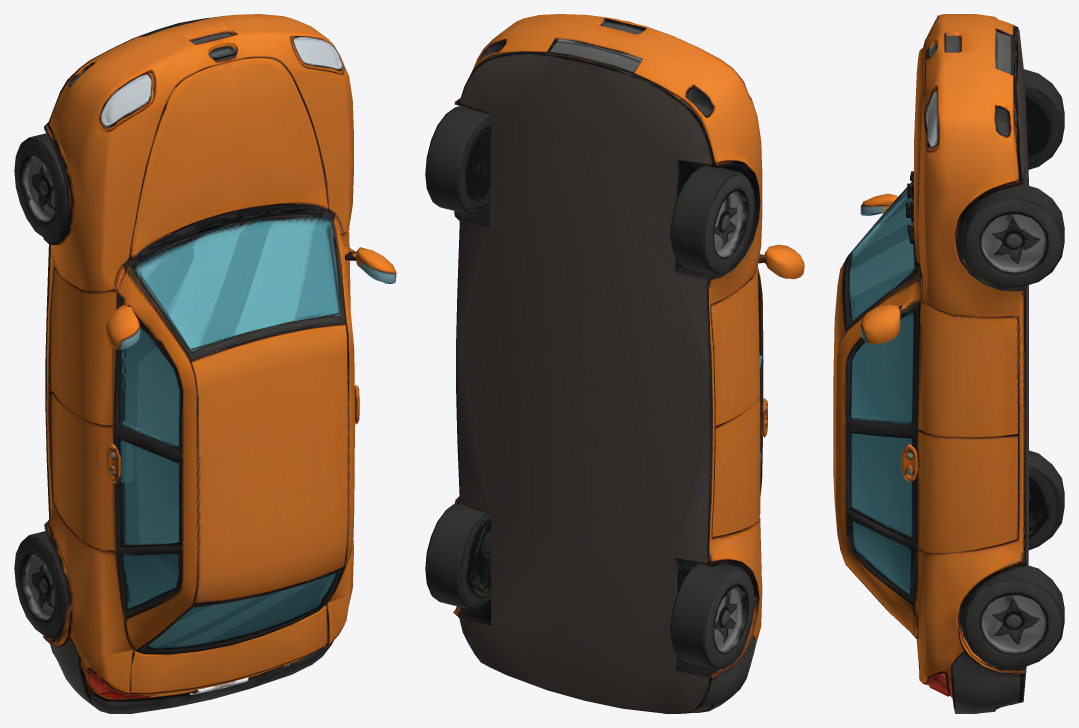
The model's file is selected.fbx.
3 renders of one model, left to right at view 1: azimuth 30°, elevation 25°; view 2: azimuth 150°, elevation 25°; view 3: azimuth 270°, elevation 25°, orthographic. The views are drawn at different scales.
Parts seen in each view (by area): view 1: tripo_node_b208797e-71d7-49c3-8727-cdec91dc54c1; view 2: tripo_node_b208797e-71d7-49c3-8727-cdec91dc54c1; view 3: tripo_node_b208797e-71d7-49c3-8727-cdec91dc54c1.
Boxes of the visible parts, x1,y1,x2,y2 form: tripo_node_b208797e-71d7-49c3-8727-cdec91dc54c1: (14, 14, 396, 713); tripo_node_b208797e-71d7-49c3-8727-cdec91dc54c1: (425, 14, 804, 713); tripo_node_b208797e-71d7-49c3-8727-cdec91dc54c1: (833, 14, 1064, 713).
Bounding box in the file's own units: 44.73 × 99.8 × 33.01.
1 material, 1 textured.
